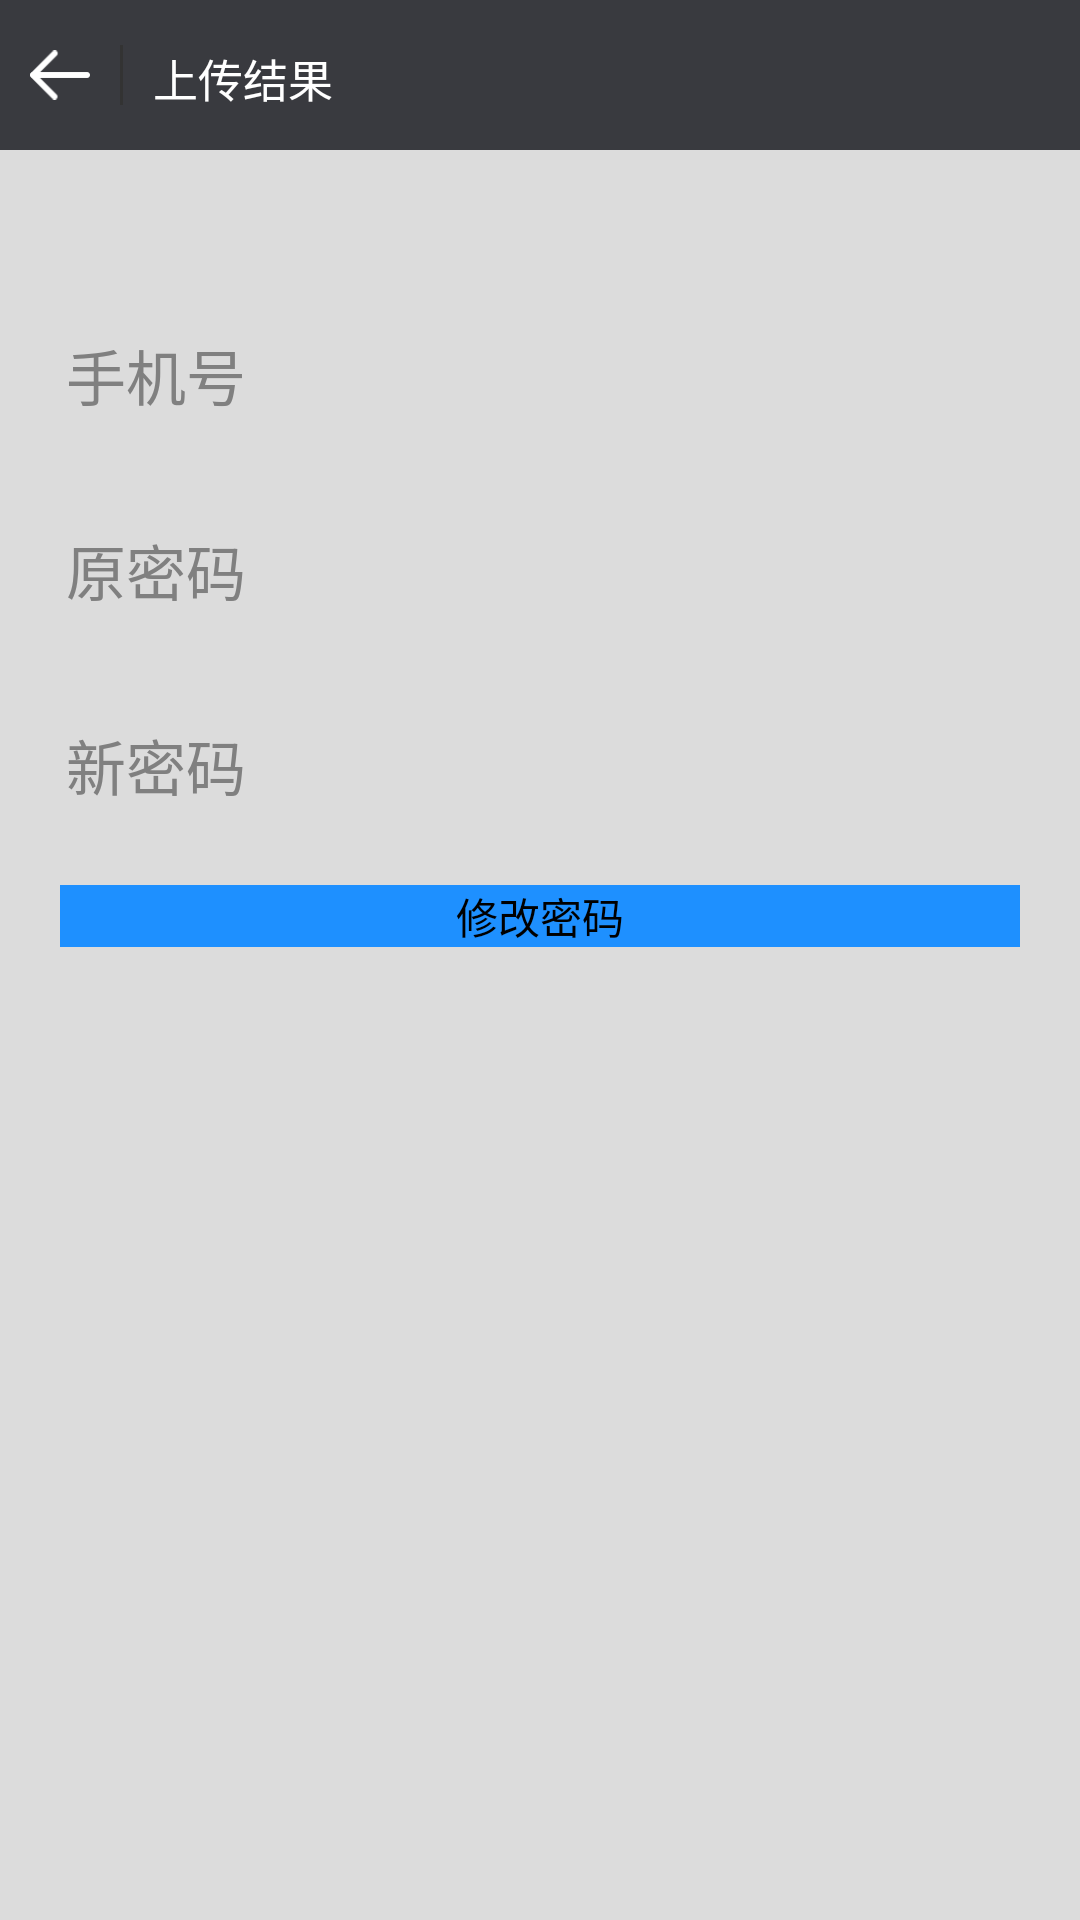

Named icons in this screenshot (1080x1920) and their bounding boxes, (x1, y1, x2, y2):
返回: (30, 50, 90, 100)
